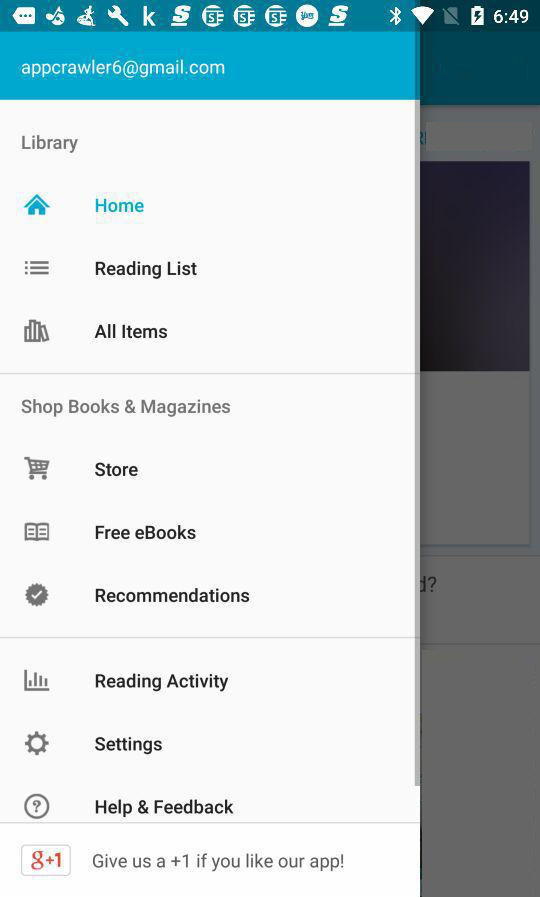Drawer: (1, 33, 421, 897)
Icon: (21, 844, 72, 876), (24, 793, 51, 820), (25, 582, 51, 608), (24, 319, 51, 344), (24, 457, 52, 481), (25, 731, 51, 756), (24, 669, 51, 692), (24, 194, 52, 216), (24, 522, 51, 543), (25, 261, 51, 277)
Text: (93, 851, 345, 873), (21, 59, 226, 80), (21, 398, 232, 418), (95, 797, 235, 818), (95, 672, 230, 693), (95, 587, 251, 604), (95, 260, 199, 280), (95, 524, 197, 541), (94, 735, 164, 756), (94, 323, 169, 340), (22, 134, 80, 154), (95, 198, 145, 214), (94, 461, 140, 478)
UpperTaskBar: (1, 1, 540, 33)
